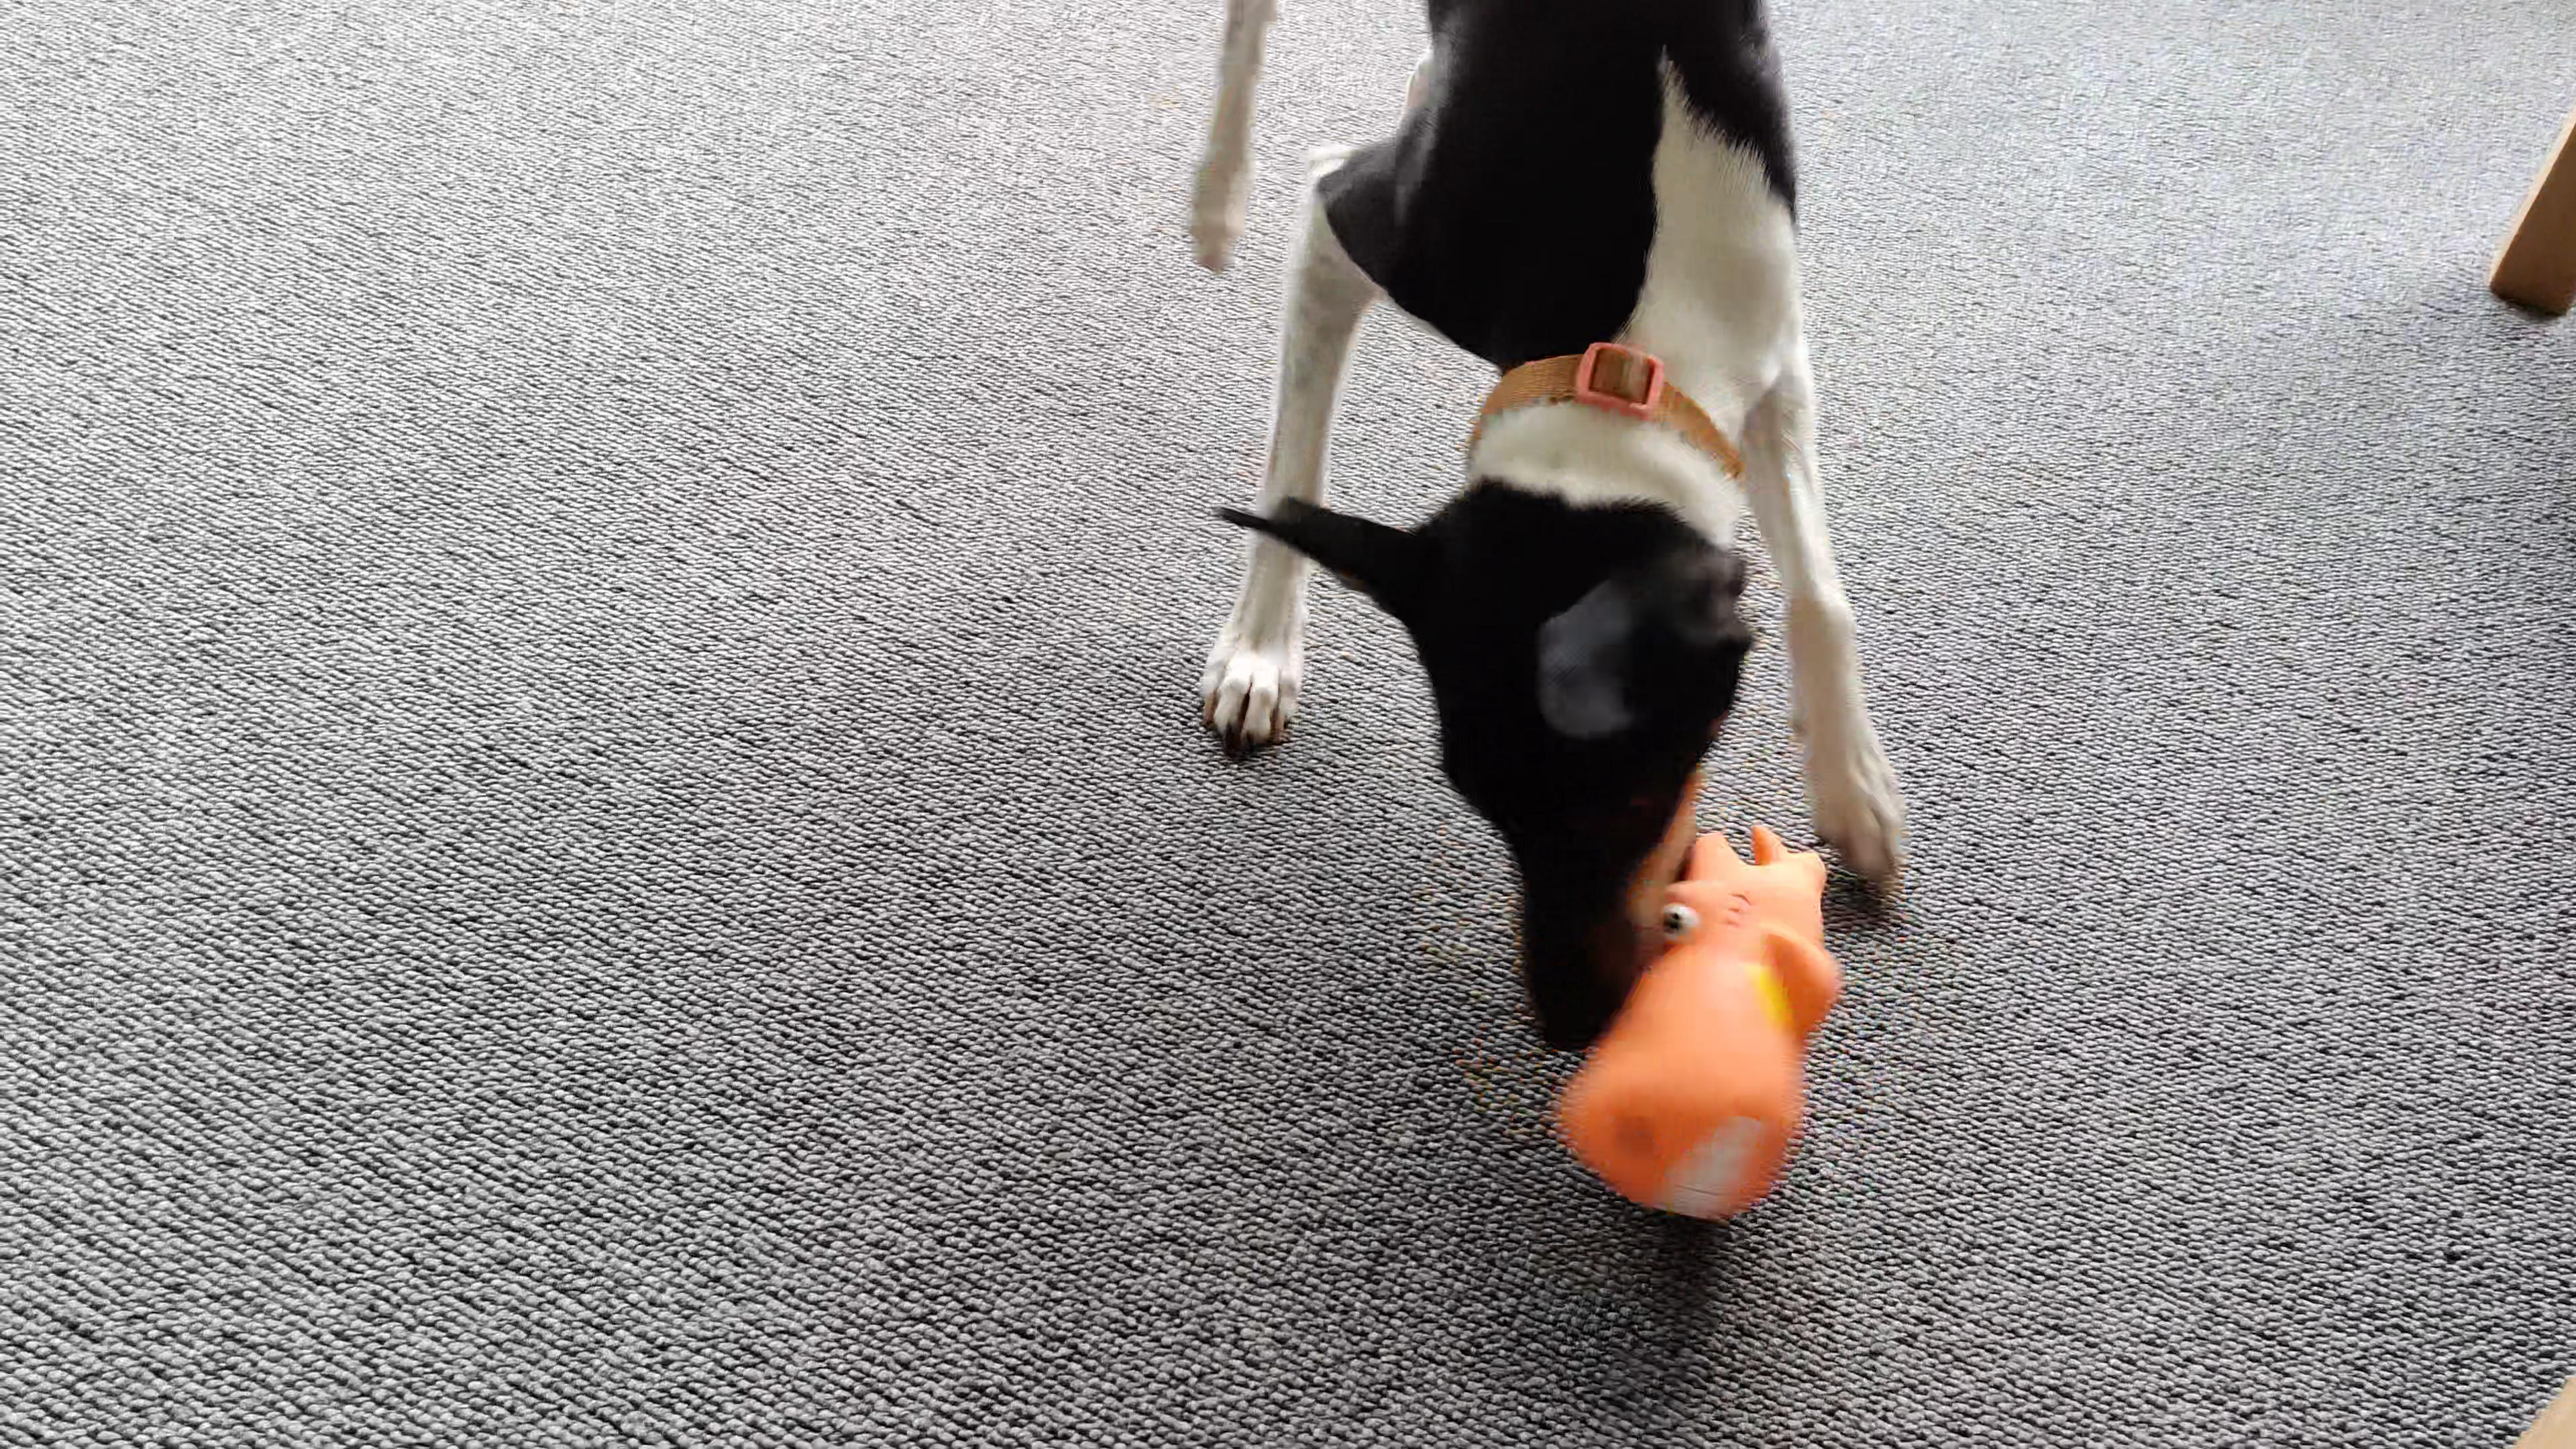Dog: (1178, 0, 1916, 1060)
